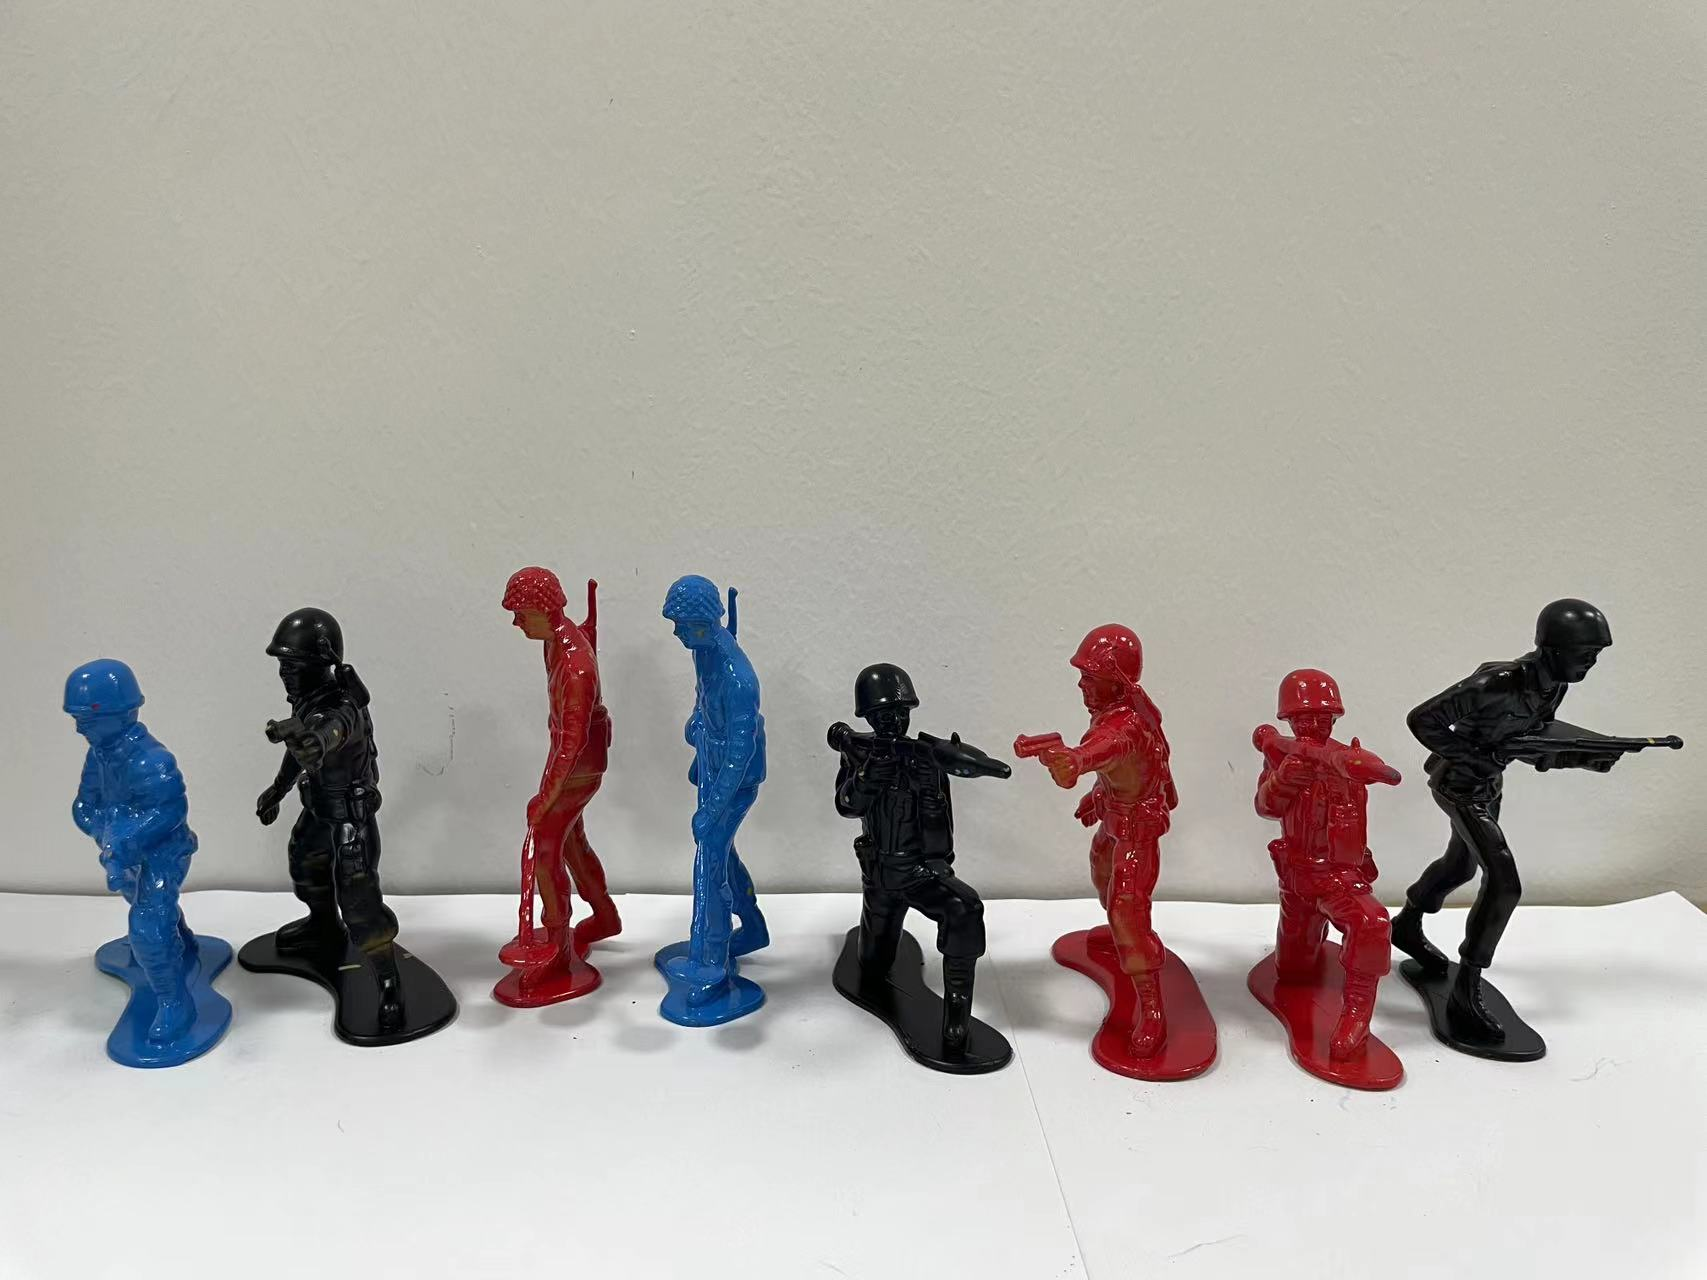black: (1397, 578, 1700, 1082), (220, 594, 466, 1092), (823, 636, 1020, 1094)
blue: (40, 631, 247, 1098), (647, 546, 817, 1080)
red: (1017, 602, 1230, 1104), (474, 510, 647, 1053), (1227, 648, 1407, 1116)
